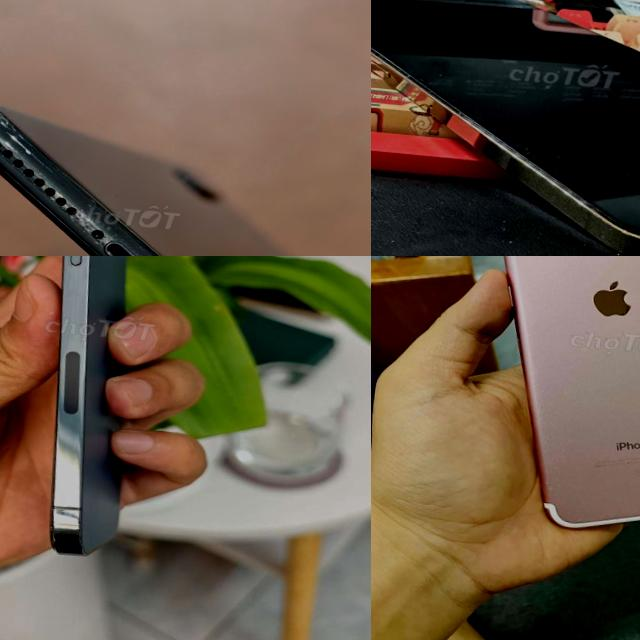gen_12_13: (371, 0, 640, 256), (19, 256, 170, 574)
gen_7_8: (469, 256, 640, 546)
gen_x_xs: (0, 87, 371, 256)
